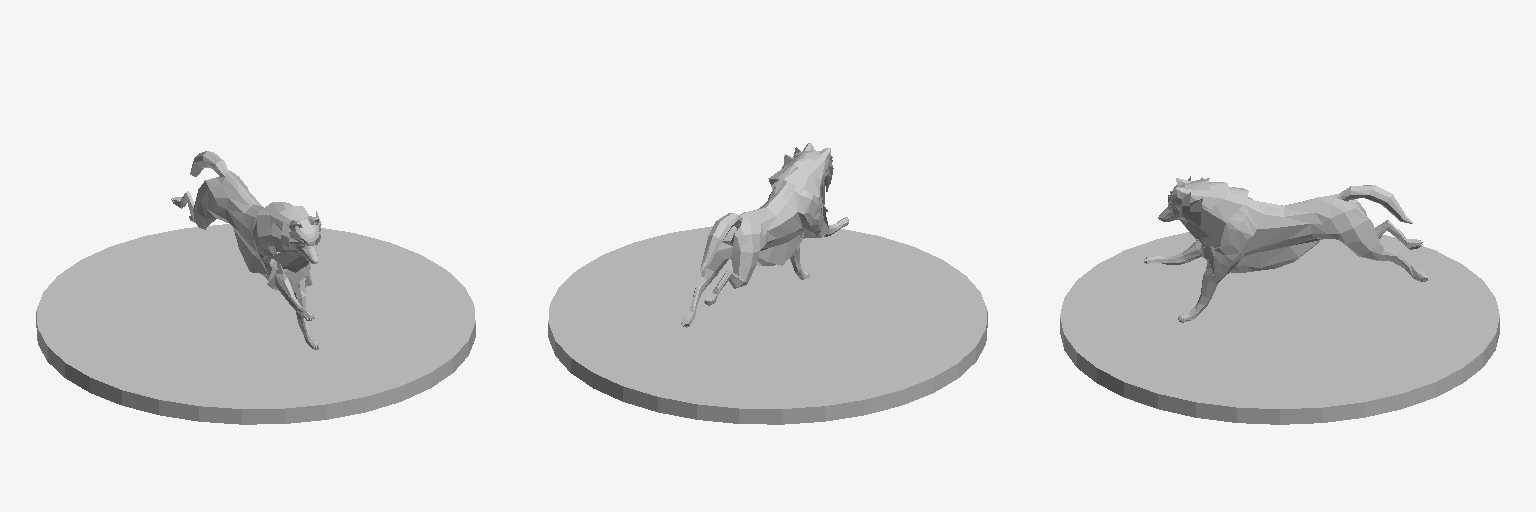
The model's file is Wolf_0016.obj.
3 renders of one model, left to right at view 1: azimuth 30°, elevation 25°; view 2: azimuth 150°, elevation 25°; view 3: azimuth 270°, elevation 25°, orthographic.
Visible parts, largest first — view 1: Circle, Wolf1_Material__wolf_col_tga_0, Wolf2_fur__fella3_jpg_001_0; view 2: Circle, Wolf1_Material__wolf_col_tga_0, Wolf2_fur__fella3_jpg_001_0; view 3: Circle, Wolf1_Material__wolf_col_tga_0, Wolf2_fur__fella3_jpg_001_0.
Part boxes in pixels (x1,y1,x2,y2): Circle: (36,224,475,424); Wolf1_Material__wolf_col_tga_0: (173,151,318,349); Wolf2_fur__fella3_jpg_001_0: (234,202,321,291); Circle: (548,226,987,424); Wolf1_Material__wolf_col_tga_0: (682,143,848,326); Wolf2_fur__fella3_jpg_001_0: (757,147,833,265); Circle: (1060,232,1499,424); Wolf1_Material__wolf_col_tga_0: (1144,178,1427,322); Wolf2_fur__fella3_jpg_001_0: (1168,176,1319,277).
Size of the model in its own units: 1.69 by 0.6422 by 1.69.